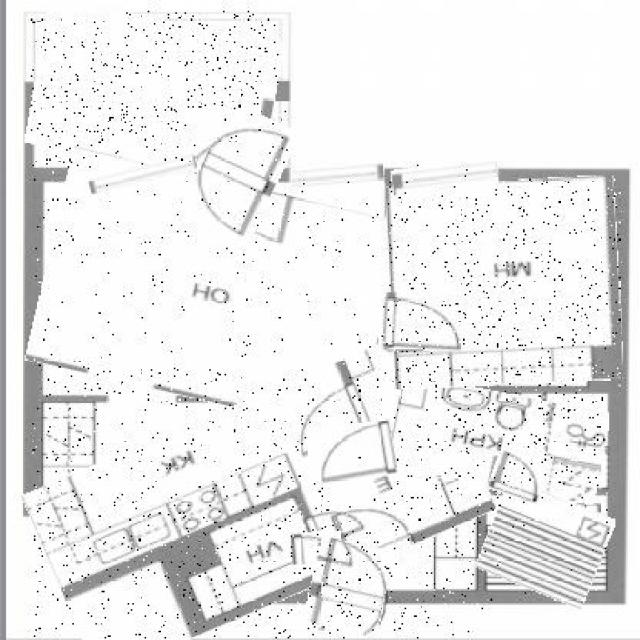door: (190, 108, 288, 240), (308, 540, 389, 634), (308, 423, 395, 483), (379, 294, 466, 349), (490, 452, 544, 500), (292, 532, 342, 563)
window: (392, 162, 498, 192), (88, 162, 197, 189), (290, 163, 384, 189)
zone: (32, 366, 486, 639), (36, 165, 396, 417), (388, 178, 622, 388), (31, 11, 278, 174), (389, 384, 606, 496), (483, 488, 609, 600)
